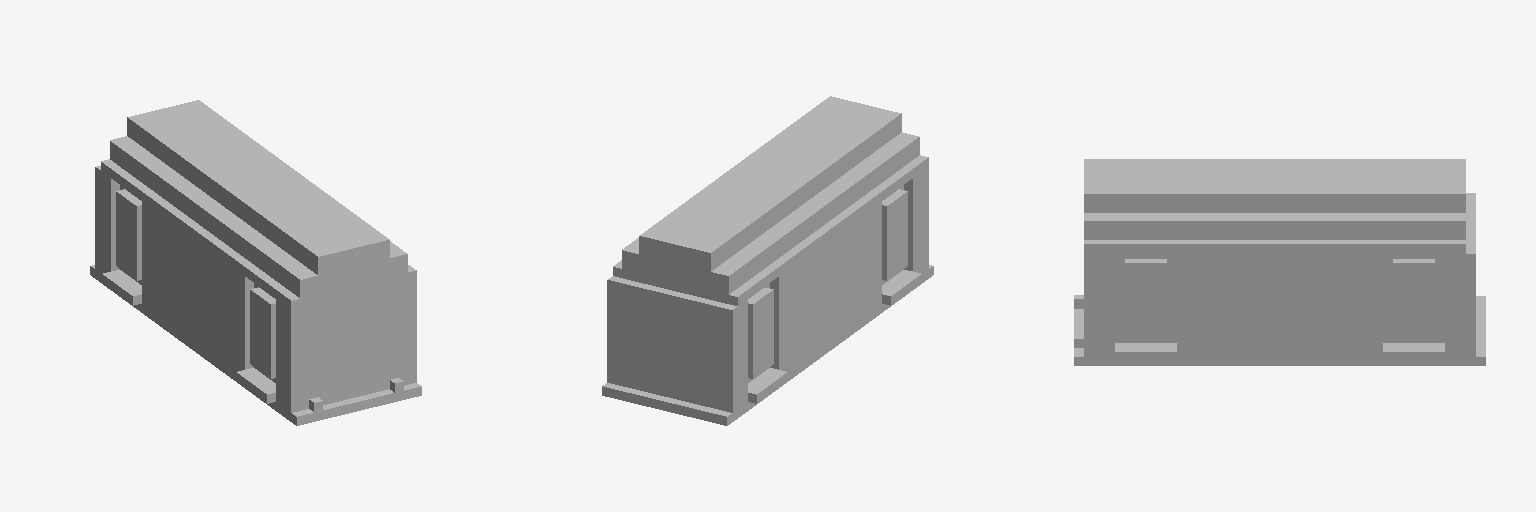
Rendered from Train.obj.
The picture shows the model from 3 angles: view 1: azimuth 30°, elevation 25°; view 2: azimuth 150°, elevation 25°; view 3: azimuth 270°, elevation 25°; orthographic projection.
Visible parts, largest first — view 1: object 1; view 2: object 1; view 3: object 1.
Part boxes in pixels (bbox=[...]): object 1: bbox=[90, 100, 421, 425]; object 1: bbox=[602, 96, 933, 425]; object 1: bbox=[1074, 159, 1485, 365].
Bounding box in the file's own units: 1.6 × 1.7 × 4.